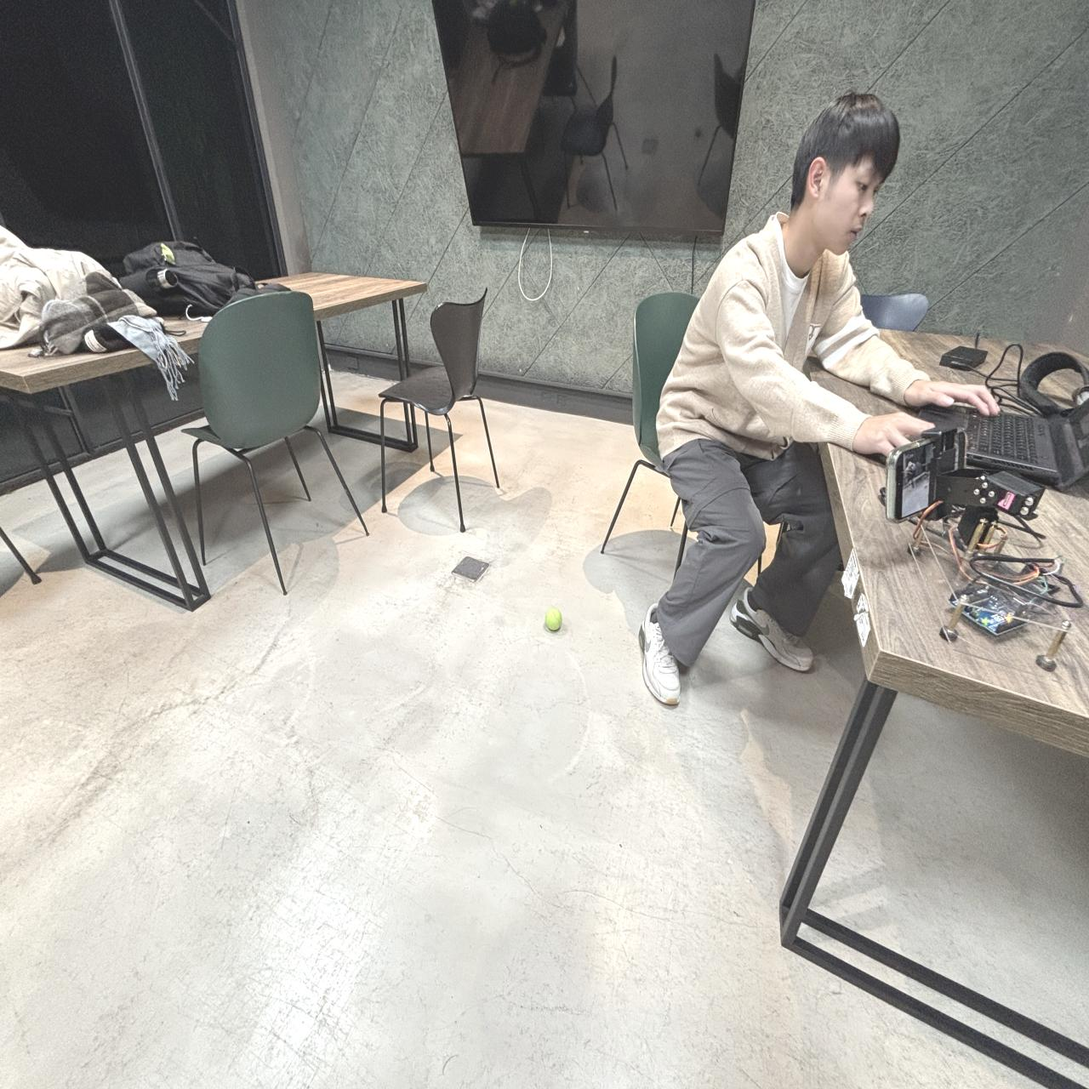person: (640, 94, 998, 704)
tennisball: (545, 608, 562, 631)
